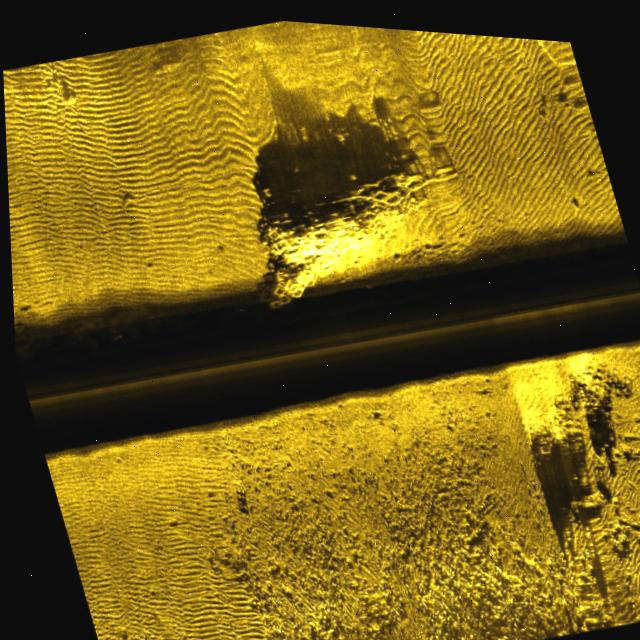artificial reef: (224, 117, 490, 332)
